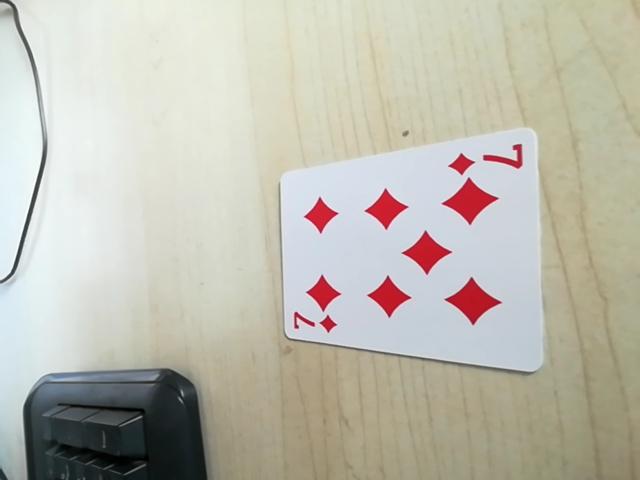fk 7: (447, 140, 529, 179), (287, 308, 345, 338)
